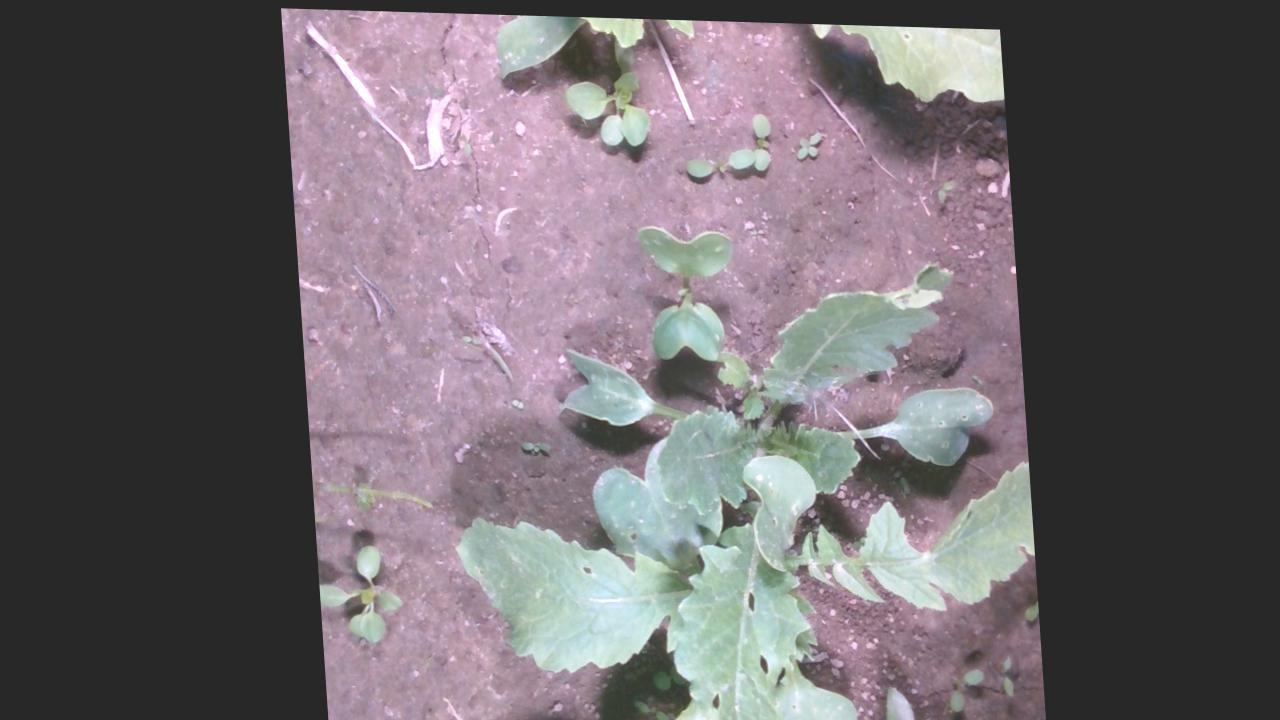weed: (514, 434, 547, 449), (504, 394, 521, 406)
